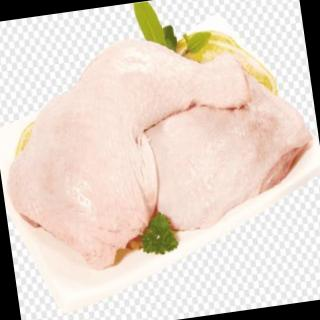Ayam: (1, 15, 320, 284), (1, 23, 271, 282), (134, 77, 320, 238)
